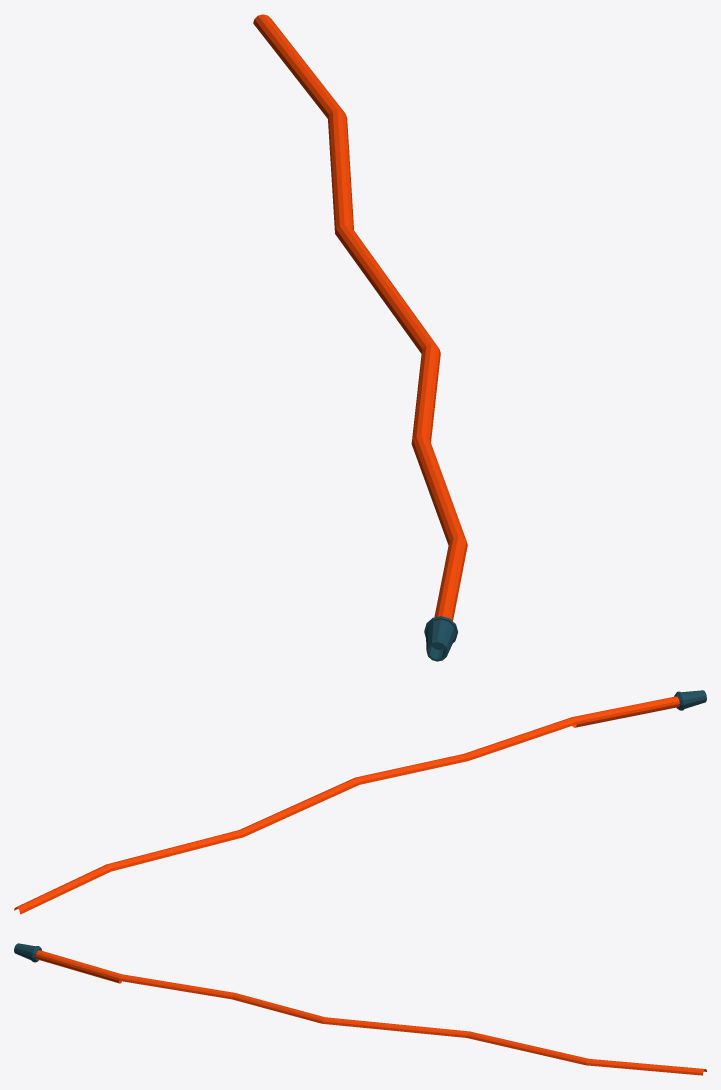
The model's file is SM_hose_02.glb.
3 views of the same model, one above another, from view 1: azimuth 30°, elevation 25°; view 2: azimuth 150°, elevation 25°; view 3: azimuth 270°, elevation 25° (orthographic). The views are drawn at different scales.
Parts seen in each view (by area): view 1: SM_hose_02; view 2: SM_hose_02; view 3: SM_hose_02.
Part boxes in pixels (x1=…): SM_hose_02: x1=253, y1=14, x2=467, y2=661; SM_hose_02: x1=14, y1=690, x2=706, y2=914; SM_hose_02: x1=14, y1=943, x2=706, y2=1075.
Bounding box in the file's own units: 0.6306 × 0.0352 × 1.43.
Materials: 1 (1 with a texture image).
